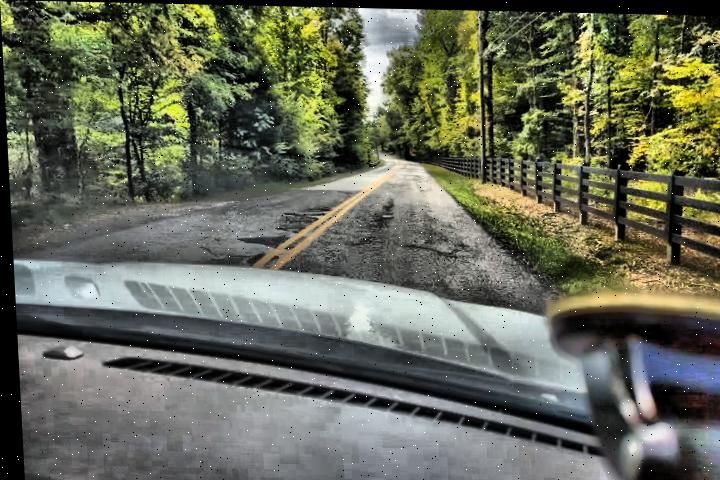pothole: (275, 201, 334, 235)
